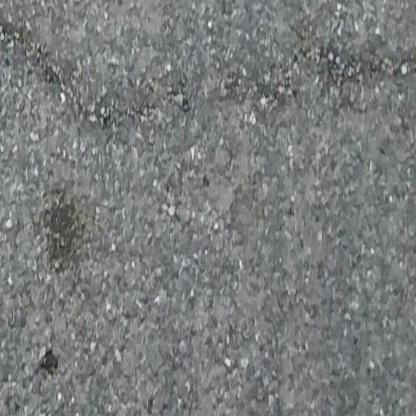Cracks: (266, 44, 416, 111), (0, 0, 64, 90)
